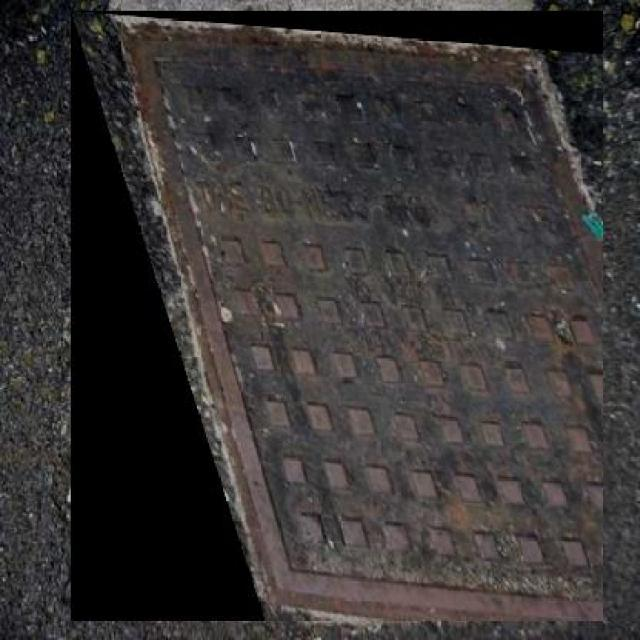Manhole: (71, 11, 604, 620)
